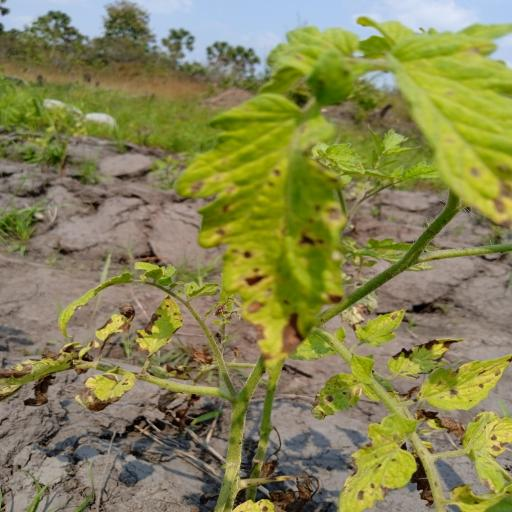Tomato_Brown_Spots: (174, 92, 365, 378), (371, 11, 512, 230), (342, 414, 420, 512), (417, 355, 512, 409)
